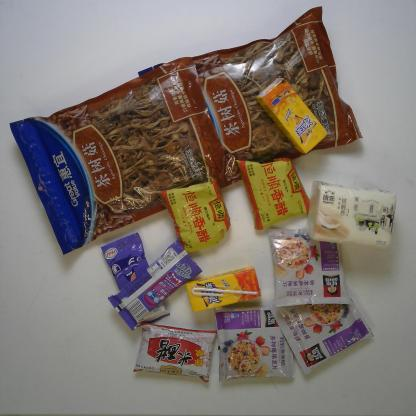Candy: (106, 239, 204, 333), (99, 232, 173, 326)
Dried Food: (6, 55, 233, 258), (136, 3, 367, 190)
Drink: (255, 76, 328, 156), (183, 264, 263, 314)
Instant Drink: (268, 274, 376, 378), (266, 225, 353, 310), (210, 302, 297, 384)
Seasoner: (231, 156, 312, 233), (157, 174, 232, 255), (131, 319, 219, 387)
Tissue: (304, 177, 398, 251)
